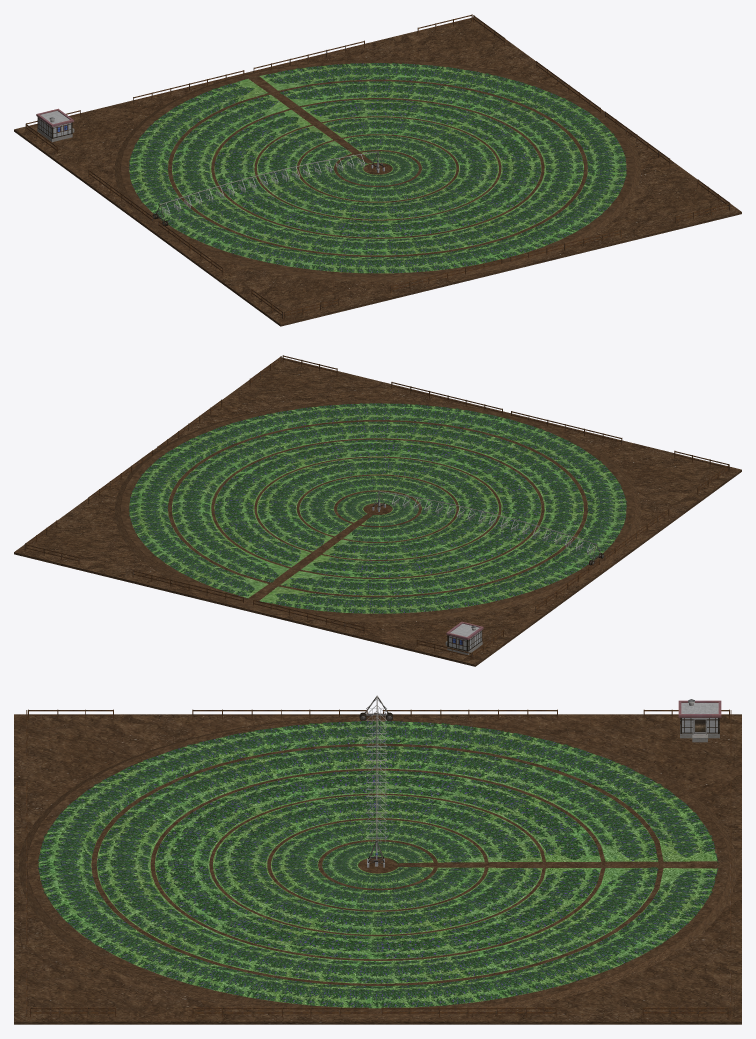
The model's file is irrigated_field.glb.
The picture shows the model from 3 angles, top to bottom: view 1: azimuth 30°, elevation 25°; view 2: azimuth 150°, elevation 25°; view 3: azimuth 270°, elevation 25°; orthographic projection. The views are drawn at different scales.
Parts seen in each view (by area): view 1: Circle_5, Cone_6, Fence_7, Cube_4, Frame.002_8; view 2: Circle_5, Cone_6, Fence_7, Cube_4, Frame.002_8; view 3: Circle_5, Cone_6, Fence_7, Frame.002_8, Cube_4.
Boxes of the visible parts, <box> form: Circle_5: <box>14,17,741,326</box>; Cone_6: <box>129,63,626,273</box>; Fence_7: <box>25,14,730,319</box>; Cube_4: <box>160,151,377,215</box>; Frame.002_8: <box>36,108,74,142</box>; Circle_5: <box>14,357,741,666</box>; Cone_6: <box>129,403,626,613</box>; Fence_7: <box>24,355,729,659</box>; Cube_4: <box>379,491,596,554</box>; Frame.002_8: <box>445,621,483,654</box>; Circle_5: <box>14,714,741,1024</box>; Cone_6: <box>37,720,718,1008</box>; Fence_7: <box>26,709,731,1017</box>; Frame.002_8: <box>678,699,721,742</box>; Cube_4: <box>366,695,387,842</box>.
Bounding box in the file's own units: 102 × 5.73 × 102.
Materials: 5 (5 with a texture image).
